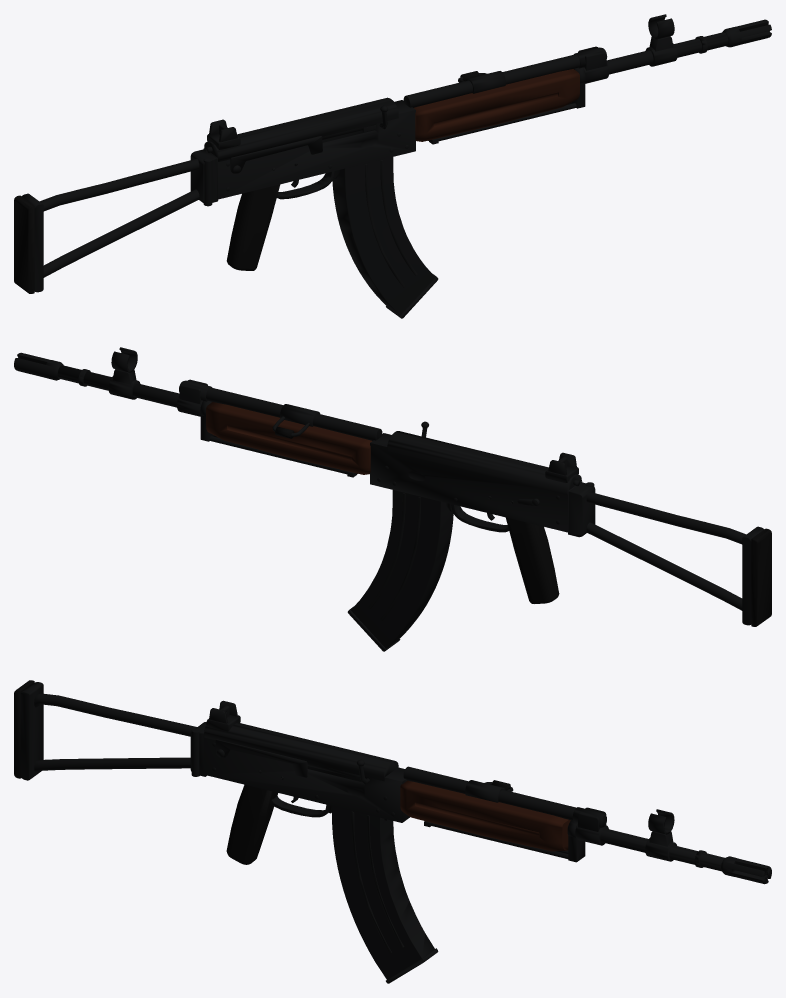
The model's file is r_jackal.glb.
3 views of the same model, one above another, from view 1: azimuth 30°, elevation 25°; view 2: azimuth 150°, elevation 25°; view 3: azimuth 330°, elevation 25° (orthographic).
Parts seen in each view (by area): view 1: SM_W_r_jackal; view 2: SM_W_r_jackal; view 3: SM_W_r_jackal.
Boxes of the visible parts, x1,y1,x2,y2 form: SM_W_r_jackal: [14, 14, 771, 318]; SM_W_r_jackal: [14, 347, 771, 651]; SM_W_r_jackal: [14, 680, 771, 983].
Bounding box in the file's own units: 0.977 × 0.2883 × 0.0713.
